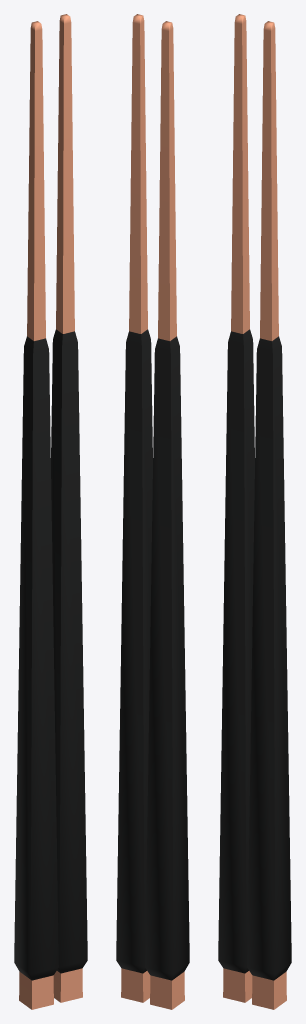
File: chopsticks_007.glb
3 renders of one model, left to right at view 1: azimuth 30°, elevation 25°; view 2: azimuth 150°, elevation 25°; view 3: azimuth 330°, elevation 25°, orthographic.
Visible parts, largest first — view 1: chopsticks.007; view 2: chopsticks.007; view 3: chopsticks.007.
Boxes of the visible parts, x1,y1,x2,y2 form: chopsticks.007: [14, 14, 87, 1009]; chopsticks.007: [116, 14, 189, 1009]; chopsticks.007: [218, 14, 291, 1009].
Size of the model in its own units: 0.3382 by 5.53 by 0.1673.
1 material, 1 textured.
